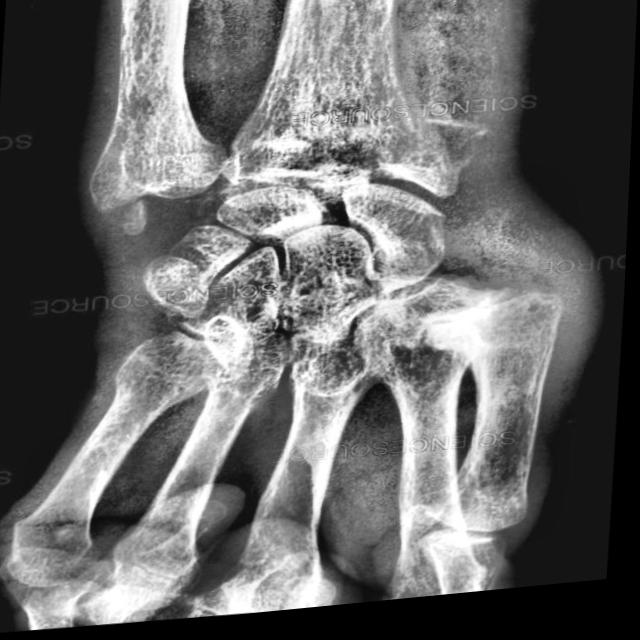fracture: (422, 282, 579, 371), (350, 107, 480, 205)
